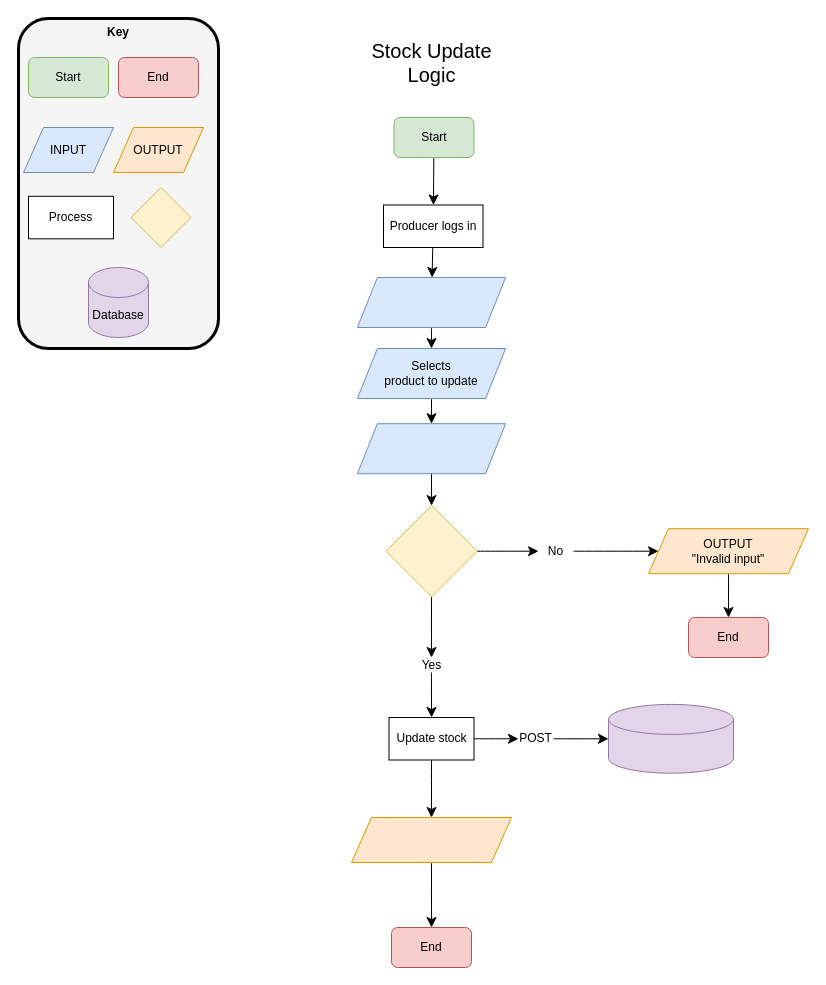
Image size: 826x985. Some labels were removed from this diagram. Here are the shapes that lost their labels. From the top down, the centre of each, then its label:
(160,217): Decision
(431,302): Selects product management section
(431,448): Enters new stock level
(431,551): Is stock level valid ( >= 0 )?
(671,738): ProductsController
(431,839): OUTPUT "Stock updated"
